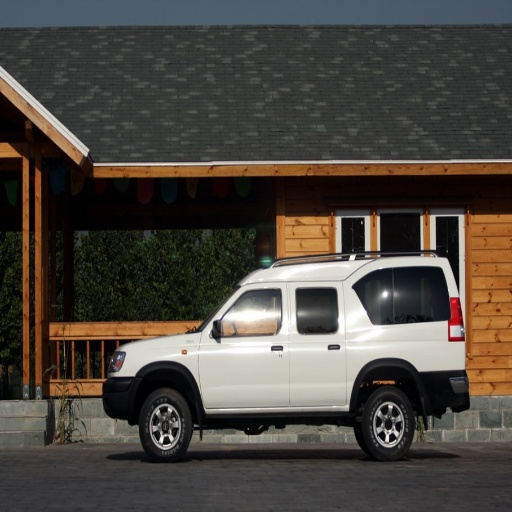back_left_door: (290, 285, 344, 400)
trunk: (329, 325, 460, 414)
